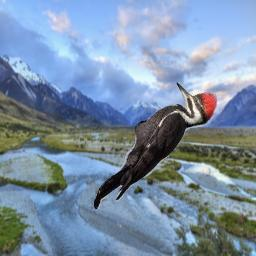Woodpecker: (87, 82, 217, 209)
